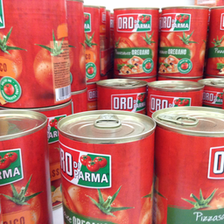tomato_sauce: (57, 108, 157, 224), (155, 105, 224, 223), (158, 6, 210, 78), (111, 6, 160, 77)
